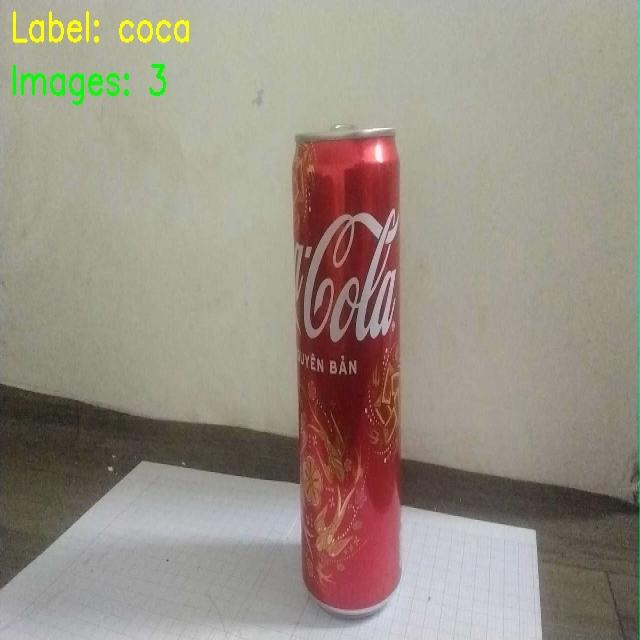Coca: (256, 104, 438, 640)
